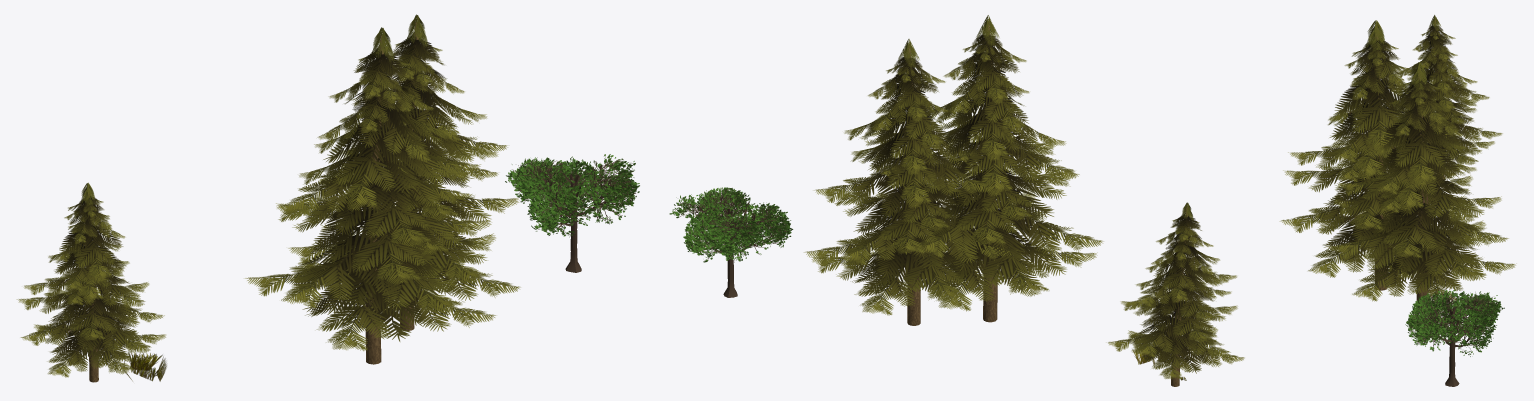
3 views of the same model, side by side, from view 1: azimuth 30°, elevation 25°; view 2: azimuth 150°, elevation 25°; view 3: azimuth 270°, elevation 25° (orthographic). The views are drawn at different scales.
Parts seen in each view (by area): view 1: Low Poly Stylized 2D Grass.1445; view 2: Low Poly Stylized 2D Grass.1445; view 3: Low Poly Stylized 2D Grass.1445.
Boxes of the visible parts, <box> form: Low Poly Stylized 2D Grass.1445: <box>16,14,639,382</box>; Low Poly Stylized 2D Grass.1445: <box>669,15,1244,386</box>; Low Poly Stylized 2D Grass.1445: <box>1279,15,1516,386</box>.
Size of the model in its own units: 28.39 by 14.75 by 12.
5 materials, 4 textured.
